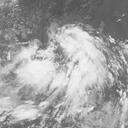cyclone: (19, 24, 109, 99)
